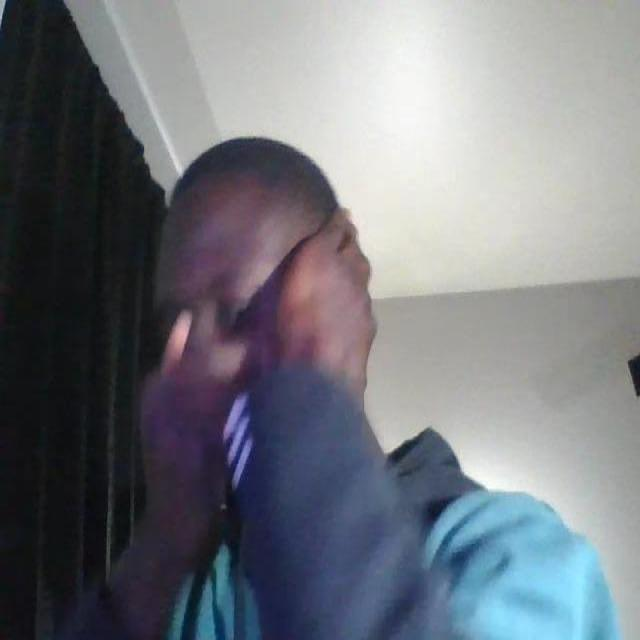no-helmet: (154, 131, 349, 320)
